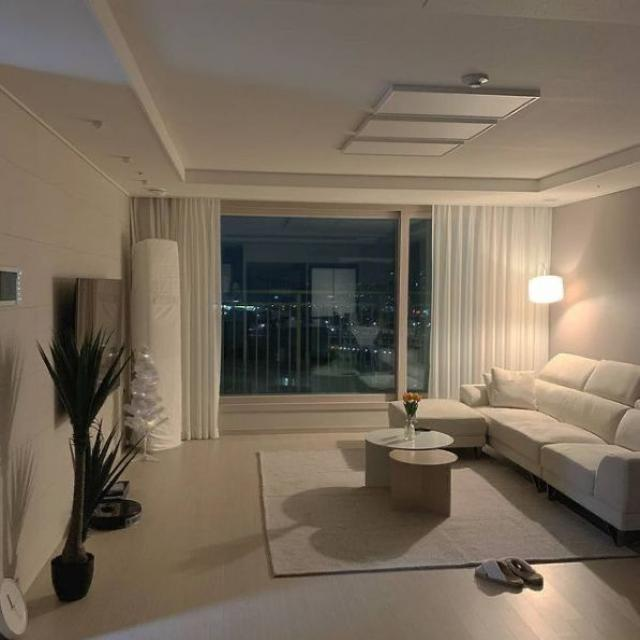obstacle: (395, 352, 640, 533), (364, 427, 454, 487)
